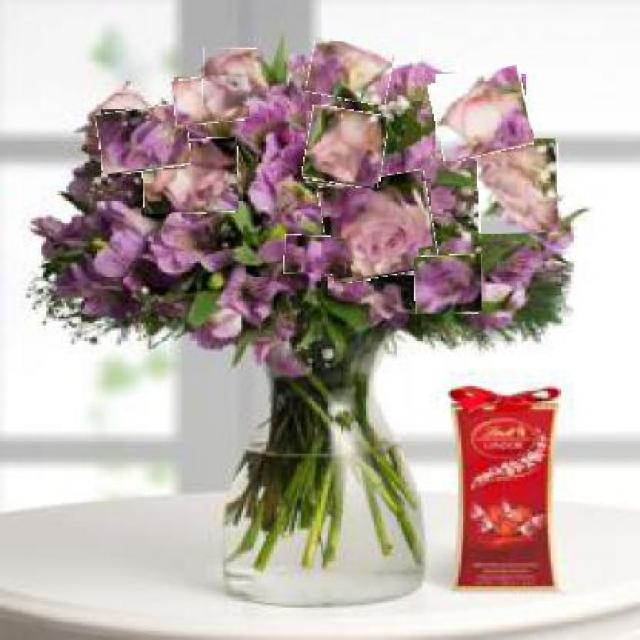Flower: (321, 175, 437, 281), (432, 70, 532, 159), (478, 140, 559, 235), (143, 139, 240, 216), (305, 108, 386, 187), (98, 107, 192, 173), (309, 41, 393, 104), (415, 256, 484, 316), (173, 75, 250, 126), (202, 48, 267, 108), (284, 235, 348, 275)
